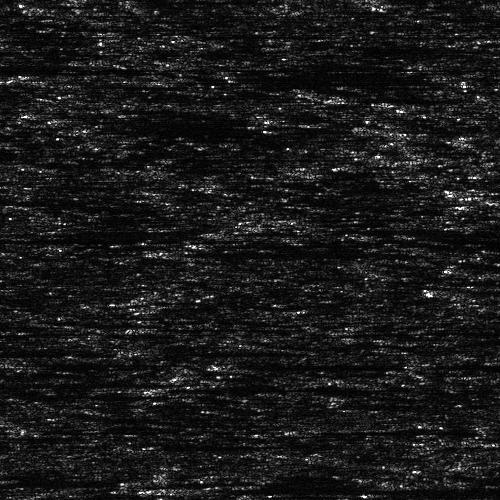object: (105, 479, 262, 500), (178, 221, 231, 244), (380, 287, 495, 296), (205, 70, 258, 81), (0, 358, 57, 367), (195, 361, 248, 370), (119, 346, 182, 351), (178, 248, 209, 257), (461, 34, 500, 41), (465, 186, 476, 193)
shadow: (184, 479, 500, 500), (205, 221, 356, 244), (194, 248, 422, 257), (232, 70, 387, 81), (0, 207, 136, 218), (0, 377, 147, 386), (0, 230, 146, 239), (222, 361, 368, 370), (25, 358, 164, 367), (0, 346, 69, 355), (437, 287, 500, 296), (0, 65, 89, 70), (151, 346, 222, 351), (471, 186, 500, 193)
